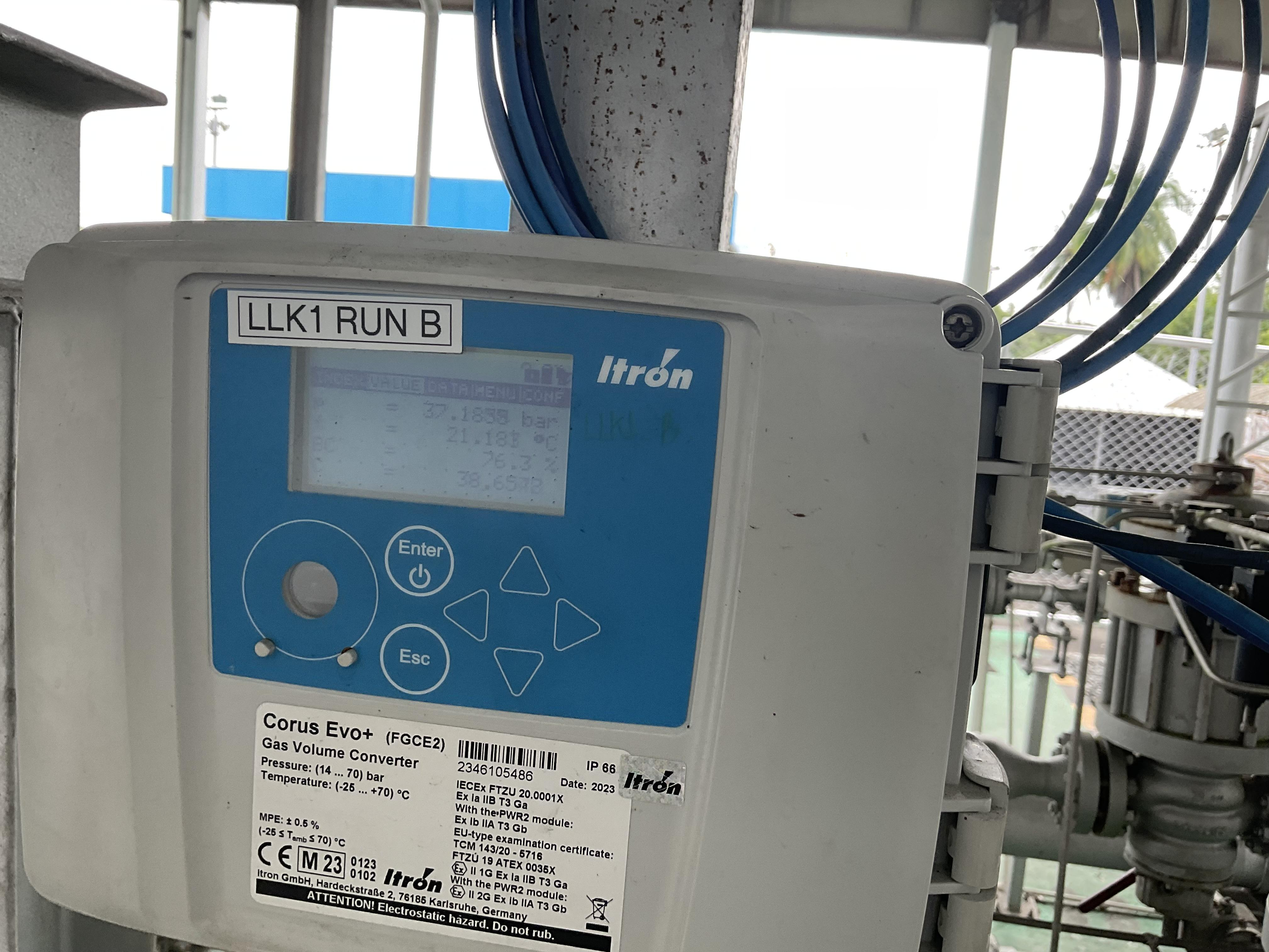digital_screen: (277, 328, 580, 517)
